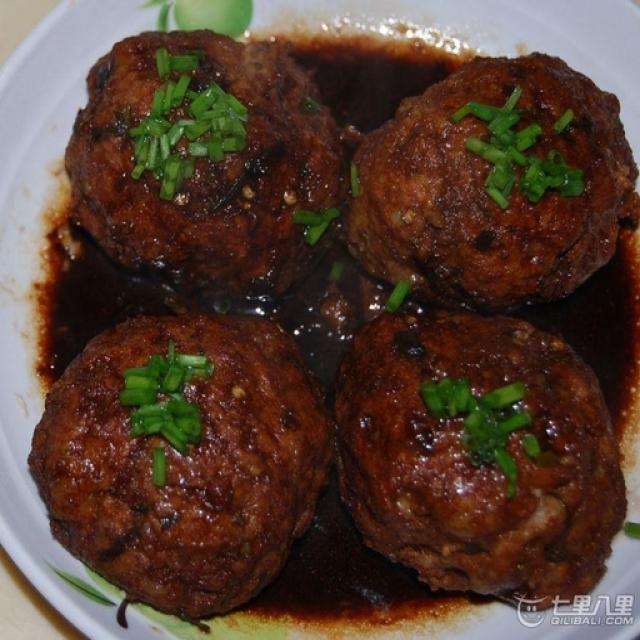meatball: (21, 300, 335, 612), (315, 308, 640, 590), (335, 37, 640, 315), (49, 25, 348, 306)
